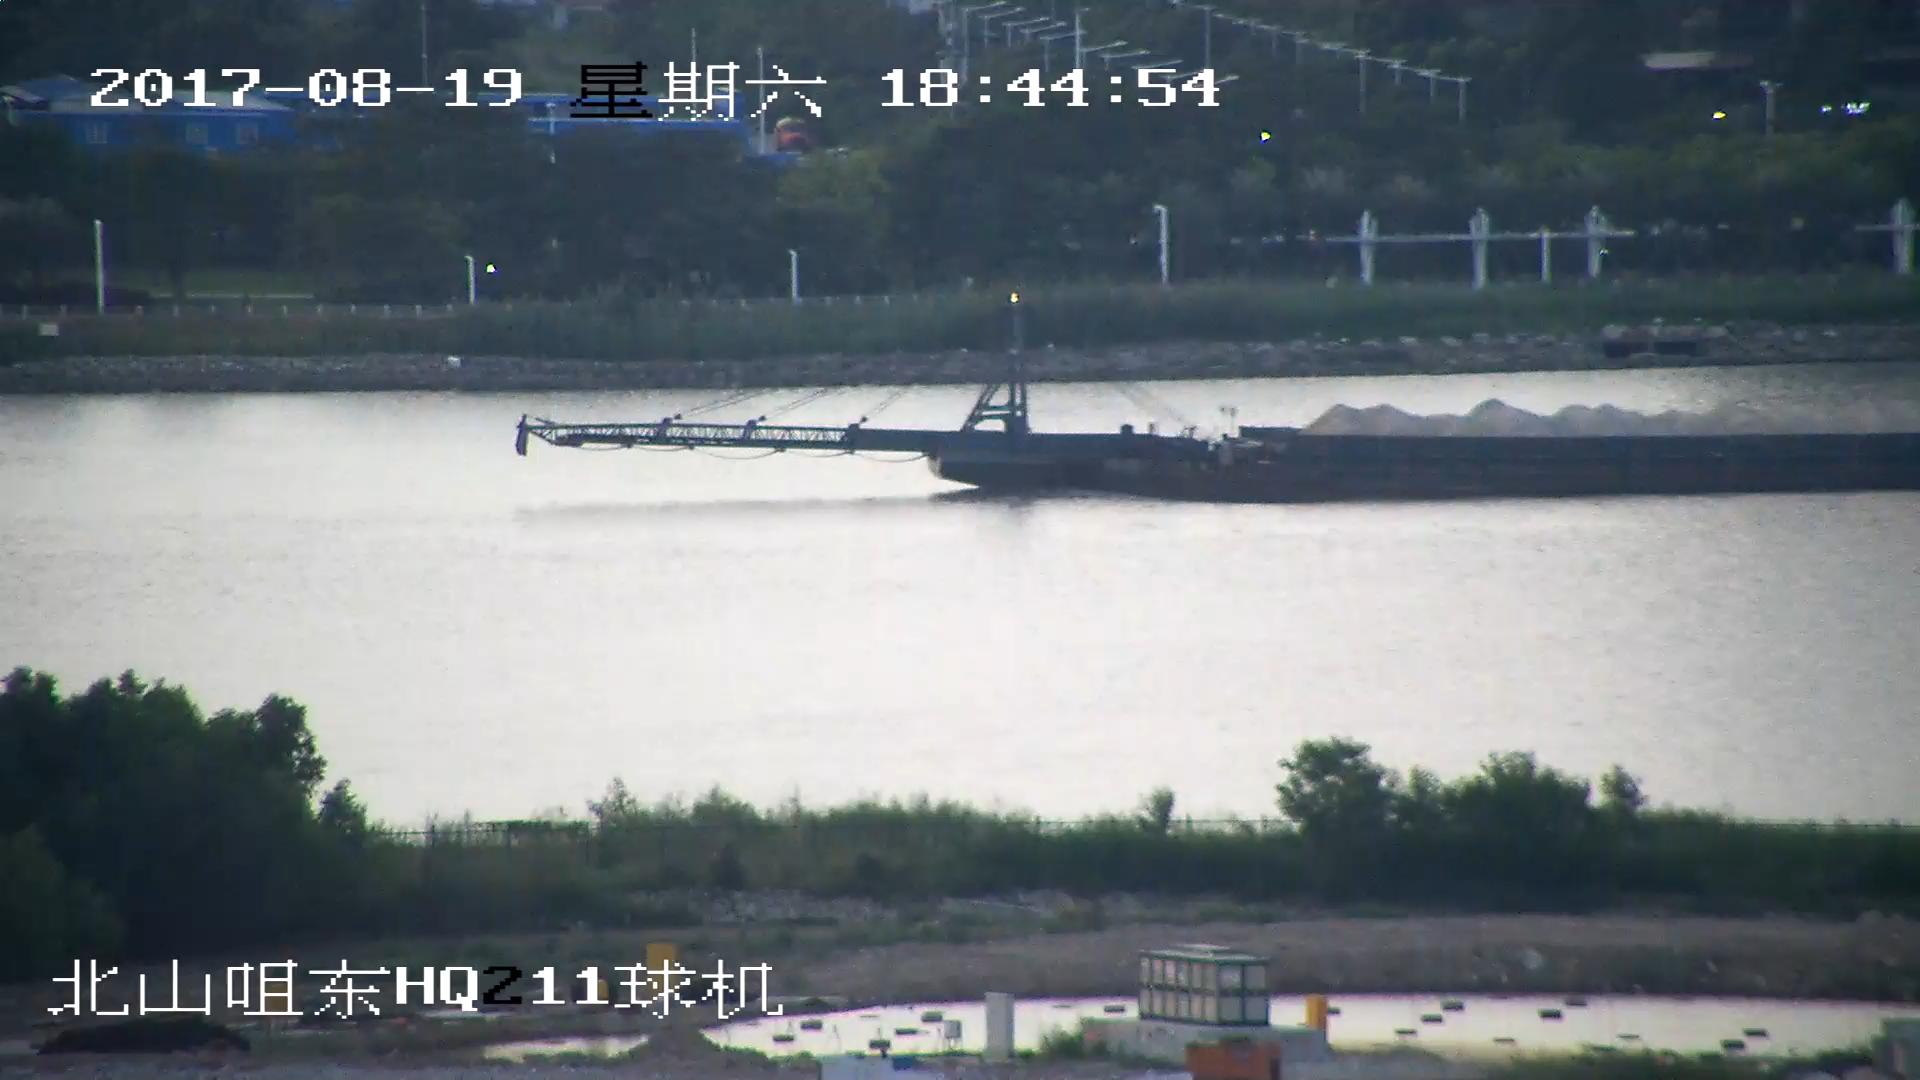ore carrier: (514, 298, 1920, 504)
